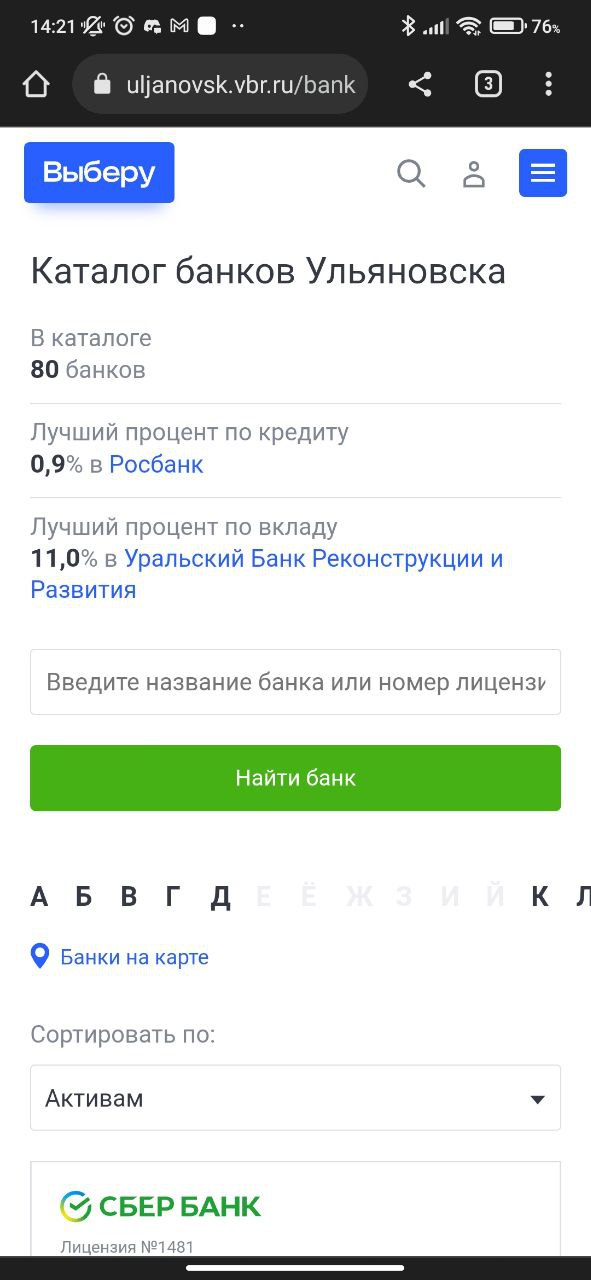burger_menu: (527, 156, 559, 184)
